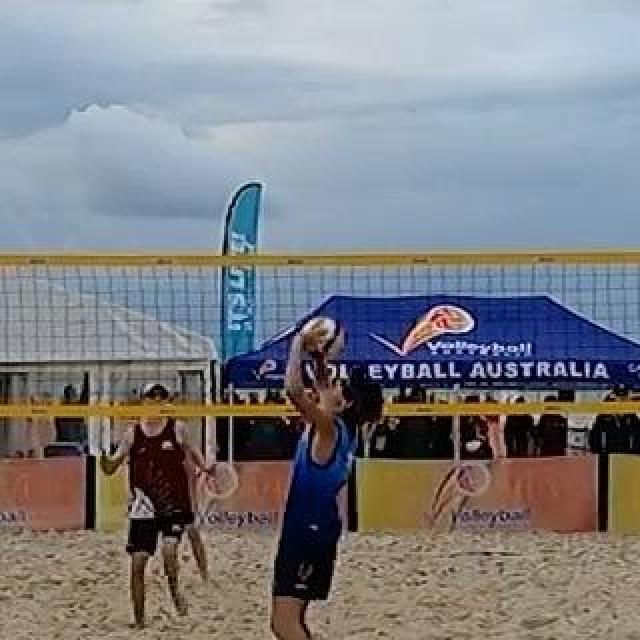volleyball: (303, 316, 347, 358)
